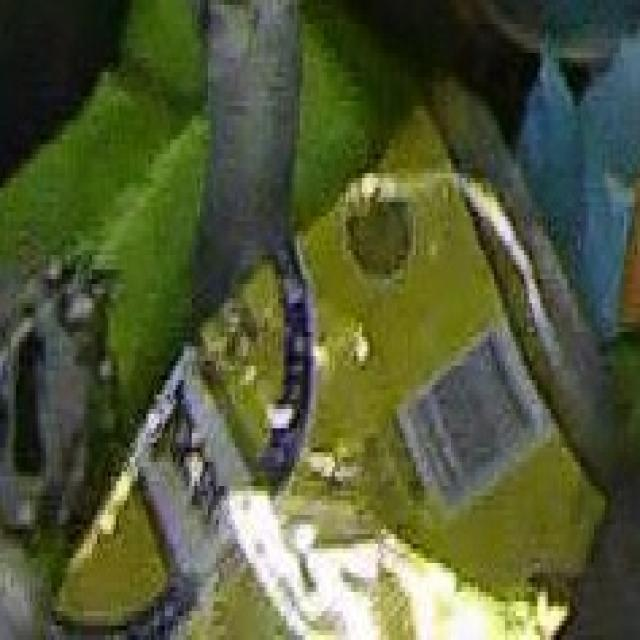can: (56, 139, 640, 640)
